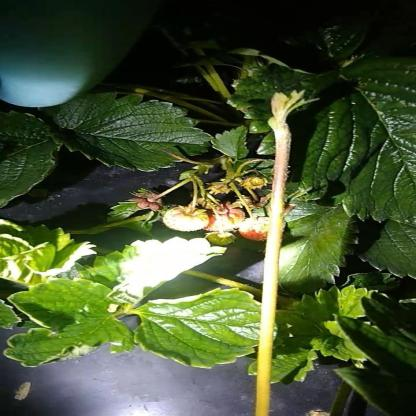ripe: (237, 218, 288, 242), (202, 205, 243, 230)
unripe: (162, 206, 207, 233), (207, 232, 238, 246)
